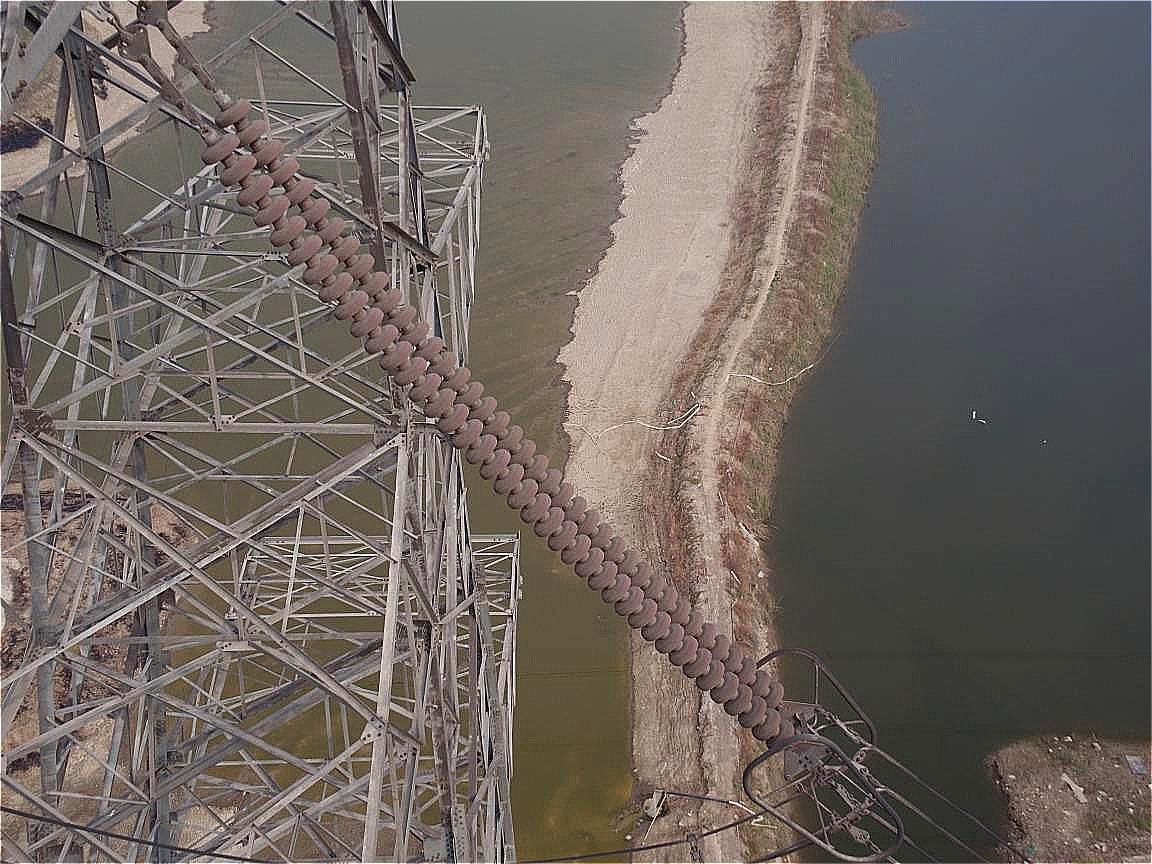insultor1: (194, 82, 811, 755)
